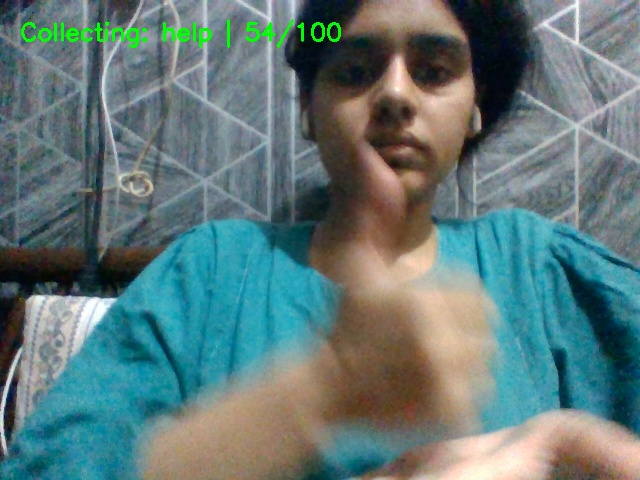help: (248, 137, 617, 480)
